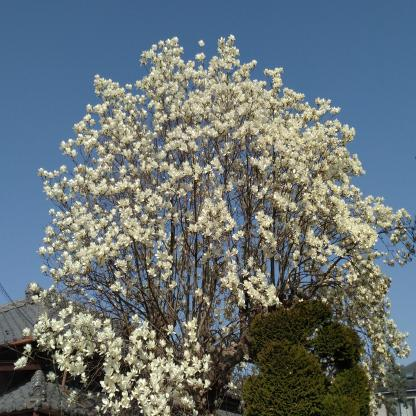Mokuren: (12, 34, 416, 416)
